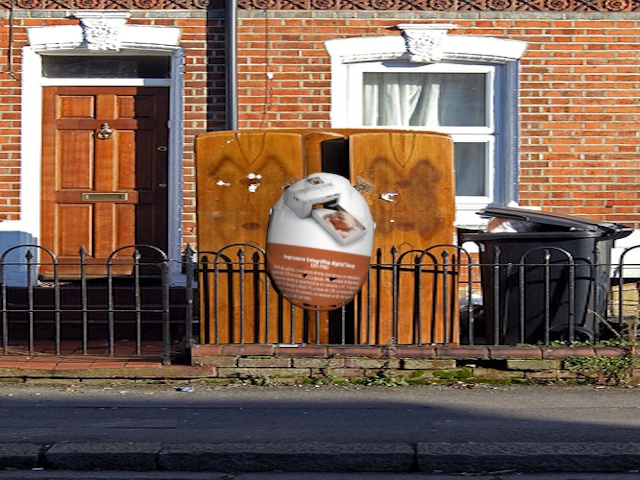bike_helmet: (256, 169, 384, 321)
